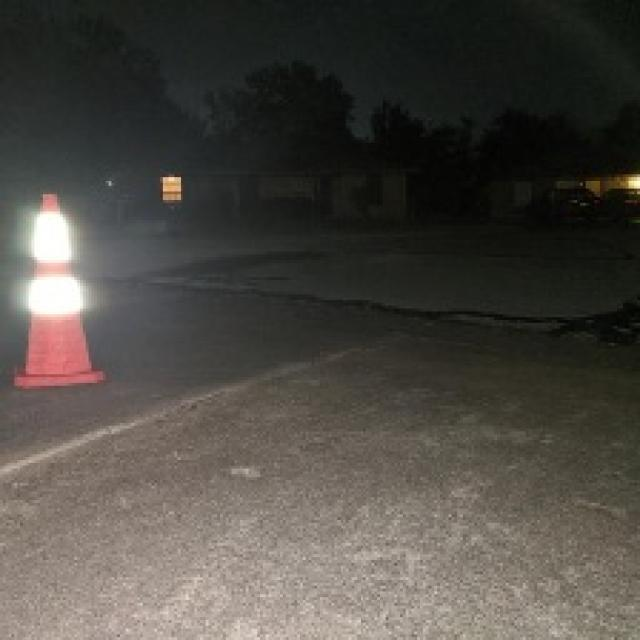traffic cone: (12, 194, 106, 390)
